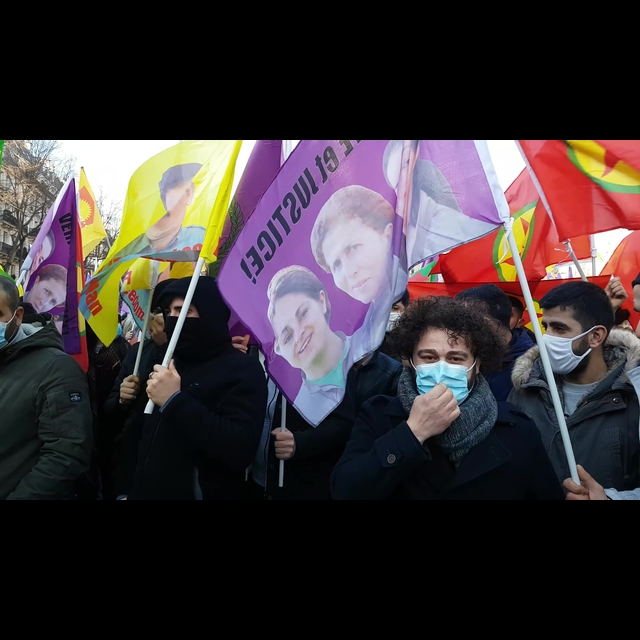PKK: (485, 205, 561, 284), (557, 138, 640, 192)
